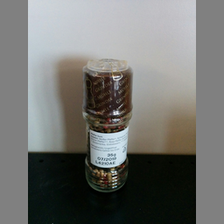spices: (82, 59, 133, 194)
